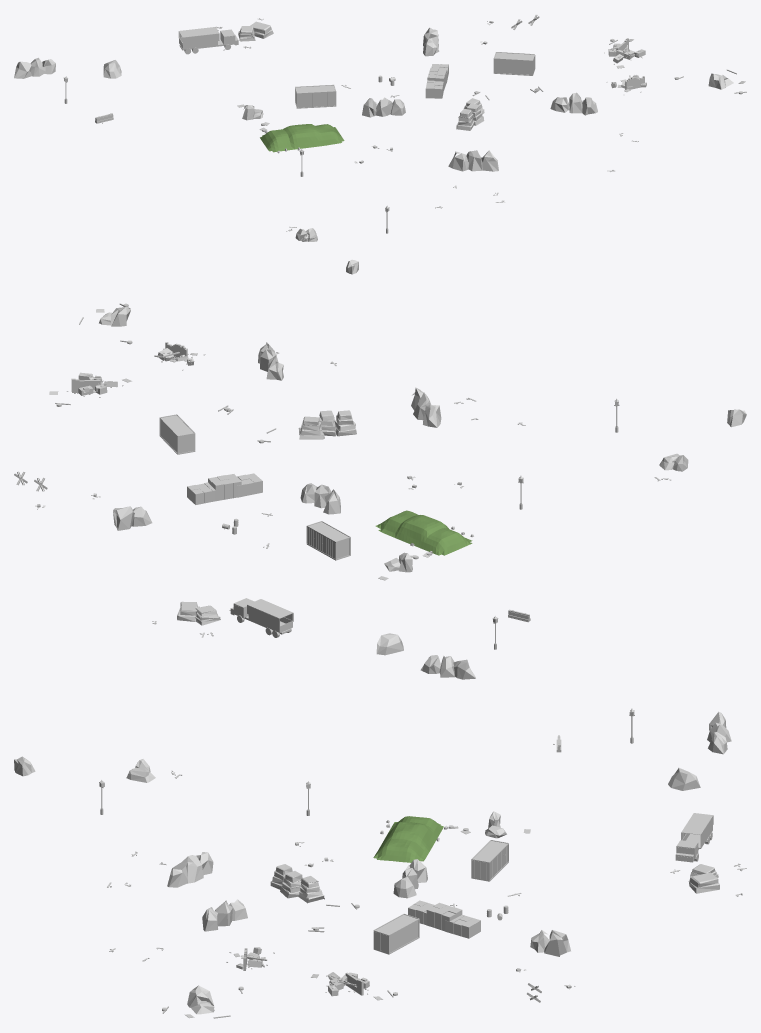
The model's file is outdoor_21.glb.
3 views of the same model, one above another, from view 1: azimuth 30°, elevation 25°; view 2: azimuth 150°, elevation 25°; view 3: azimuth 270°, elevation 25° (orthographic). The views are drawn at different scales.
Parts seen in each view (by area): view 1: gas_station_town; view 2: gas_station_town; view 3: gas_station_town.
Boxes of the visible parts, bbox=[...] form: gas_station_town: bbox=[14, 15, 746, 274]; gas_station_town: bbox=[14, 303, 746, 679]; gas_station_town: bbox=[14, 708, 746, 1018].
Size of the model in its own units: 93.61 by 8.87 by 90.2.
2 materials, 1 textured.
